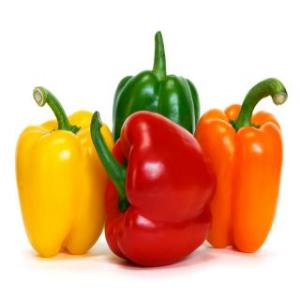bell_pepper: (94, 111, 214, 263), (197, 76, 287, 254), (17, 89, 109, 261), (110, 33, 196, 161)
